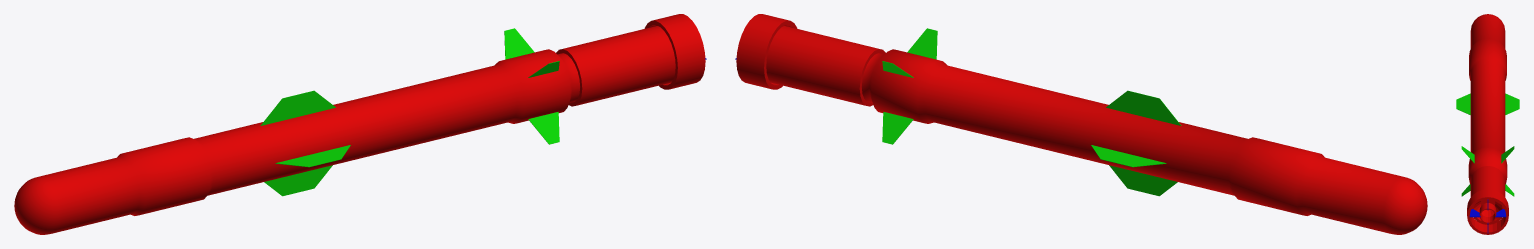
File: Torpedo.fbx
3 renders of one model, left to right at view 1: azimuth 30°, elevation 25°; view 2: azimuth 150°, elevation 25°; view 3: azimuth 270°, elevation 25°, orthographic. The views are drawn at different scales.
Visible parts, largest first — view 1: Torpedo; view 2: Torpedo; view 3: Torpedo.
Boxes of the visible parts, x1,y1,x2,y2 form: Torpedo: (14, 14, 706, 234); Torpedo: (735, 14, 1427, 234); Torpedo: (1456, 14, 1519, 234).
Size of the model in its own units: 3.06 by 0.4259 by 0.4259.
